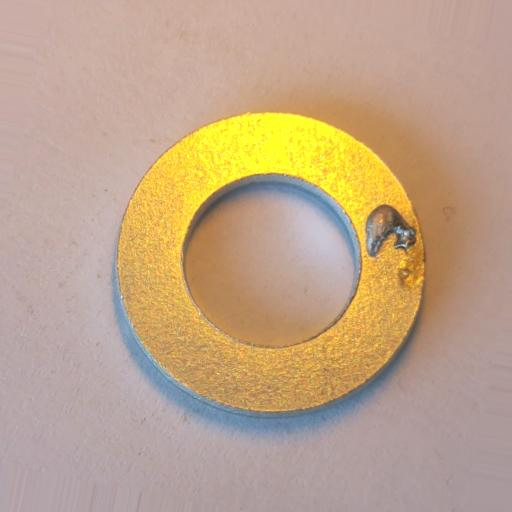excess_material: (365, 205, 416, 259)
